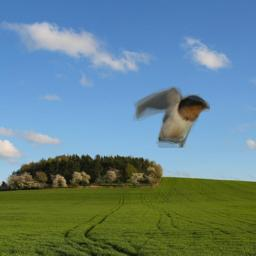Swallow: (133, 86, 210, 148)
